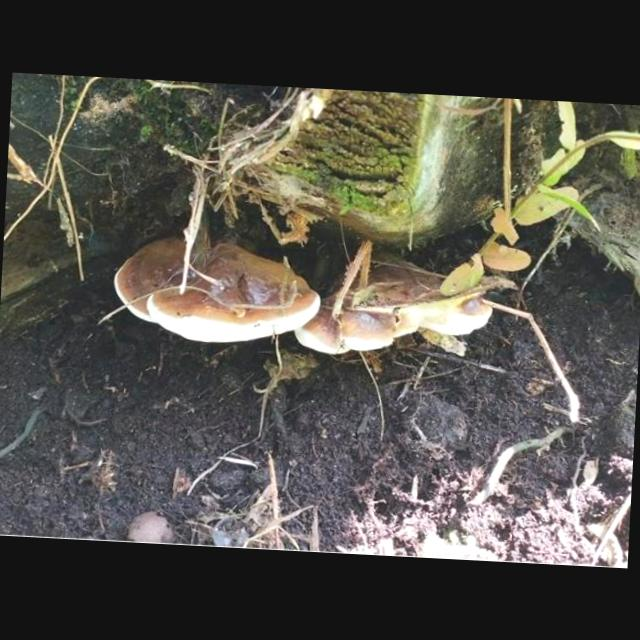ganoderma: (109, 233, 328, 349), (293, 253, 499, 364)
